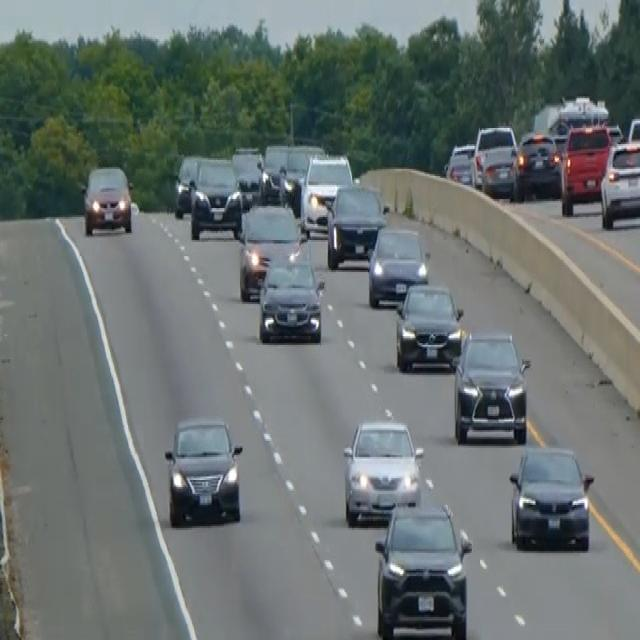car: (373, 500, 472, 638), (451, 327, 531, 445), (508, 443, 594, 551), (163, 412, 244, 526), (342, 416, 423, 524), (394, 279, 465, 372), (237, 201, 303, 300), (257, 251, 325, 343), (325, 182, 387, 268), (366, 224, 428, 308), (560, 121, 612, 213), (188, 155, 243, 240), (299, 151, 354, 235), (80, 162, 133, 234), (599, 137, 639, 227), (515, 128, 562, 199), (472, 122, 518, 194), (173, 151, 203, 217), (231, 144, 264, 204), (261, 140, 291, 198), (444, 140, 475, 187)
